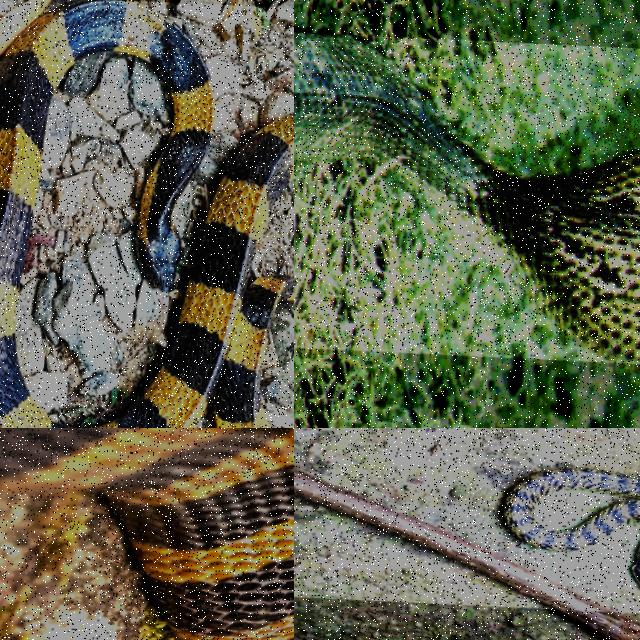Bungarus fasciatus: (0, 0, 212, 427), (0, 428, 293, 639)
Chrysopelea ornata: (500, 468, 639, 550)
Naja siamensis: (294, 36, 639, 366)
snake: (294, 36, 639, 366), (0, 0, 212, 427), (0, 428, 293, 639), (500, 468, 639, 550)
